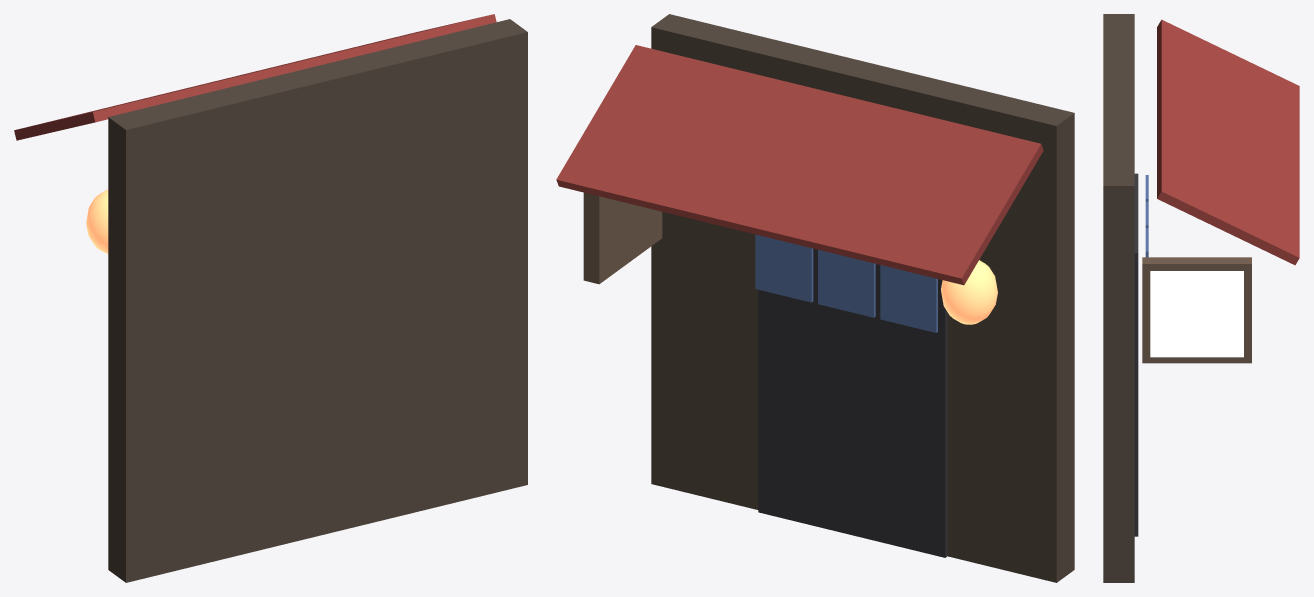
Rendered from prop_mise_gamae.glb.
The picture shows the model from 3 angles, left to right: view 1: azimuth 30°, elevation 25°; view 2: azimuth 150°, elevation 25°; view 3: azimuth 270°, elevation 25°; orthographic projection. The views are drawn at different scales.
Visible parts, largest first — view 1: mise_gamae; view 2: mise_gamae; view 3: mise_gamae.
Part boxes in pixels (x1,y1,x2,y2): mise_gamae: (14, 14, 527, 582); mise_gamae: (556, 14, 1074, 582); mise_gamae: (1103, 14, 1299, 582).
Size of the model in its own units: 2.62 by 2.8 by 1.26.
